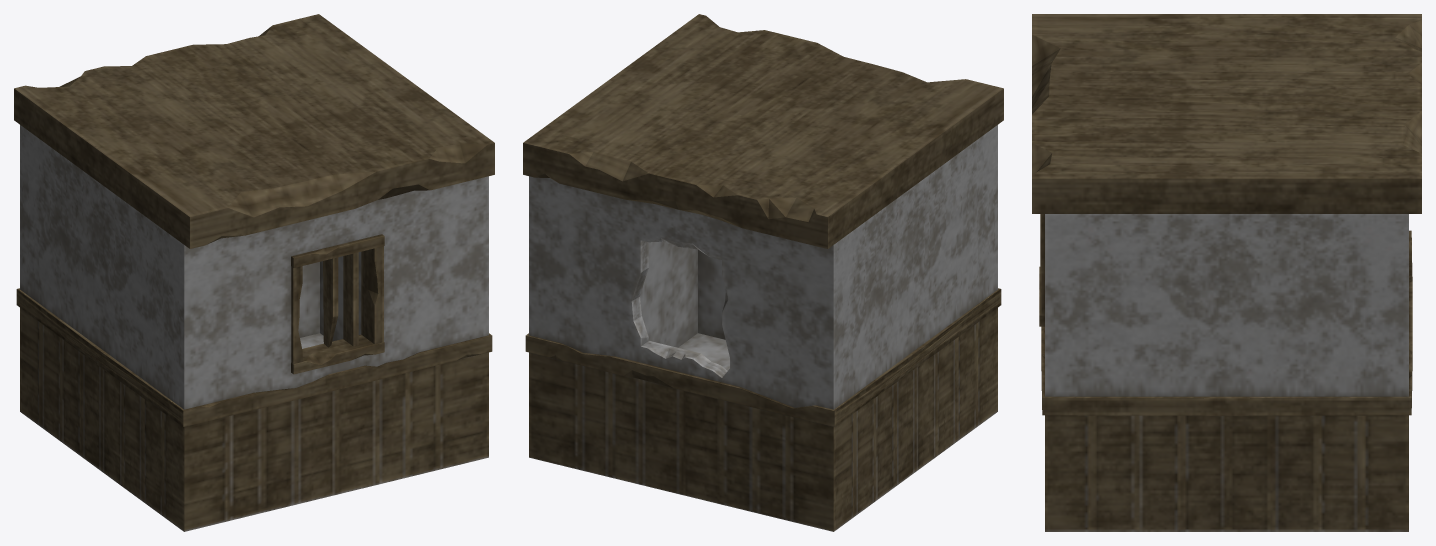
File: sb_obj_outdoor029_house02_wall03_ruins.fbx
The picture shows the model from 3 angles, left to right: view 1: azimuth 30°, elevation 25°; view 2: azimuth 150°, elevation 25°; view 3: azimuth 270°, elevation 25°; orthographic projection. The views are drawn at different scales.
Parts seen in each view (by area): view 1: sb_obj_outdoor029_house02_wall03_ruins; view 2: sb_obj_outdoor029_house02_wall03_ruins; view 3: sb_obj_outdoor029_house02_wall03_ruins.
Boxes of the visible parts, <box> form: sb_obj_outdoor029_house02_wall03_ruins: <box>14,14,494,531</box>; sb_obj_outdoor029_house02_wall03_ruins: <box>523,14,1003,531</box>; sb_obj_outdoor029_house02_wall03_ruins: <box>1032,14,1421,531</box>.
Bounding box in the file's own units: 3.06 × 3 × 3.
